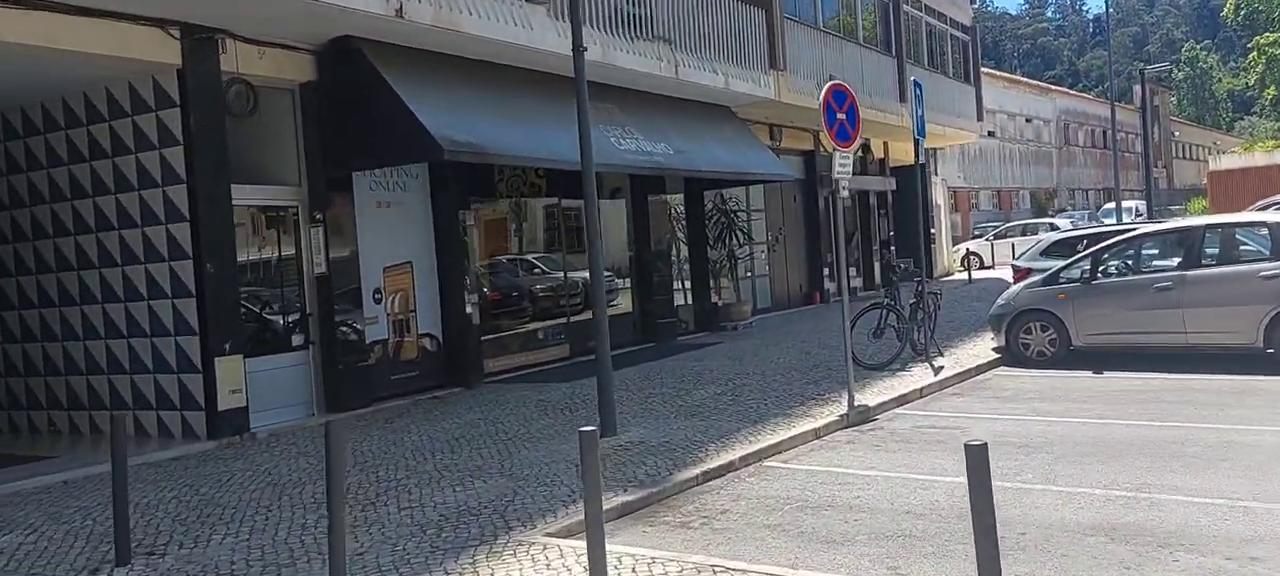paragem e estacionamento proibido: (810, 72, 871, 158)
